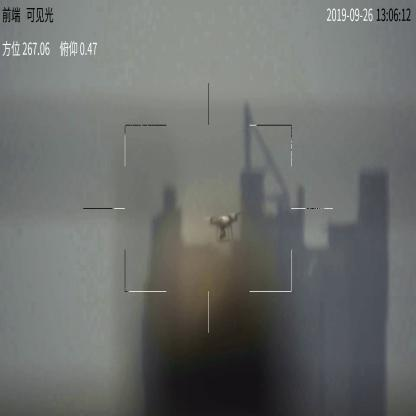uav: (196, 210, 238, 245)
